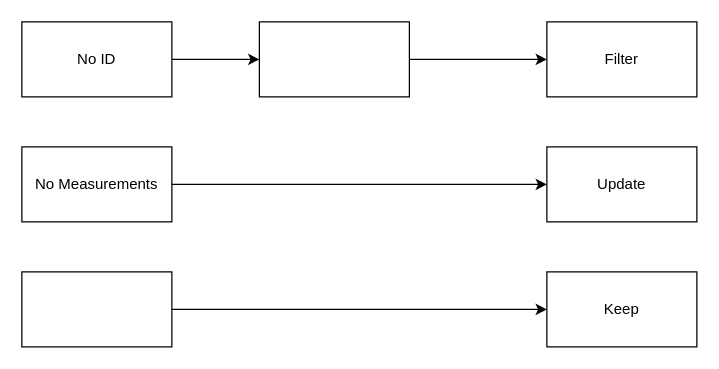
This 719x369 diagram has some shape labels left out. Here are the shapes that lost their labels. From the top down, the centre of each, then its label:
At [333,59]: "No Date".
At [96,309]: "Measurements".
